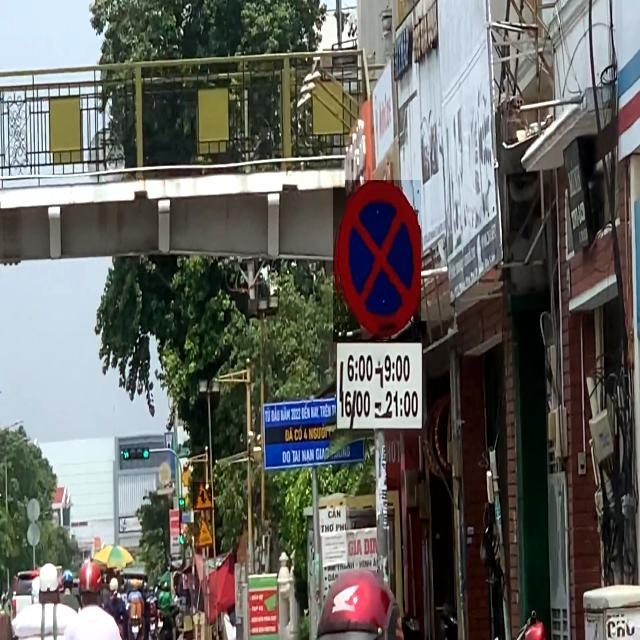bien_cam: (333, 180, 421, 342), (193, 482, 212, 510), (195, 518, 212, 546)
